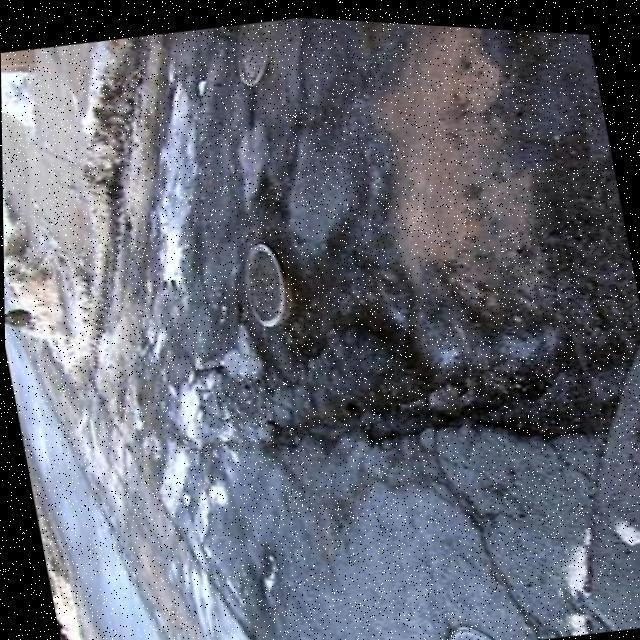Pothole: (193, 17, 640, 473)
